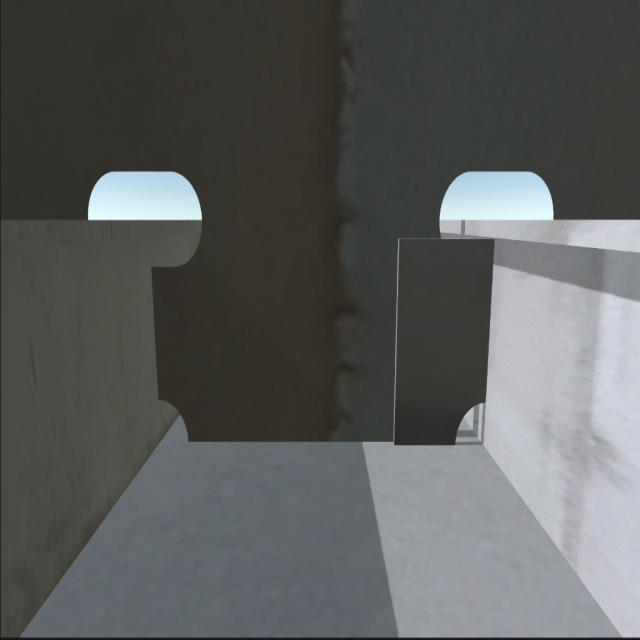fillet_hole: (450, 399, 488, 449), (155, 400, 191, 447)
fillet_yong_jeop_jang: (185, 427, 457, 451)
longi_yong_jeop_jang: (478, 236, 500, 403), (147, 267, 168, 401)
plate_CP01: (397, 239, 485, 446)
